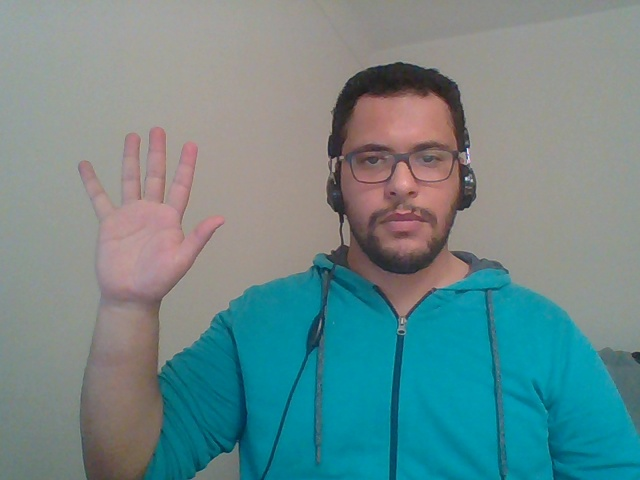hello: (51, 111, 245, 343)
